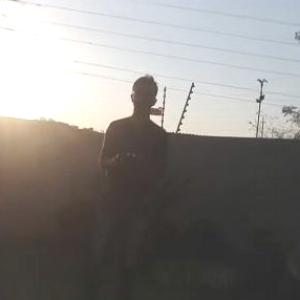follow: (92, 70, 171, 299)
